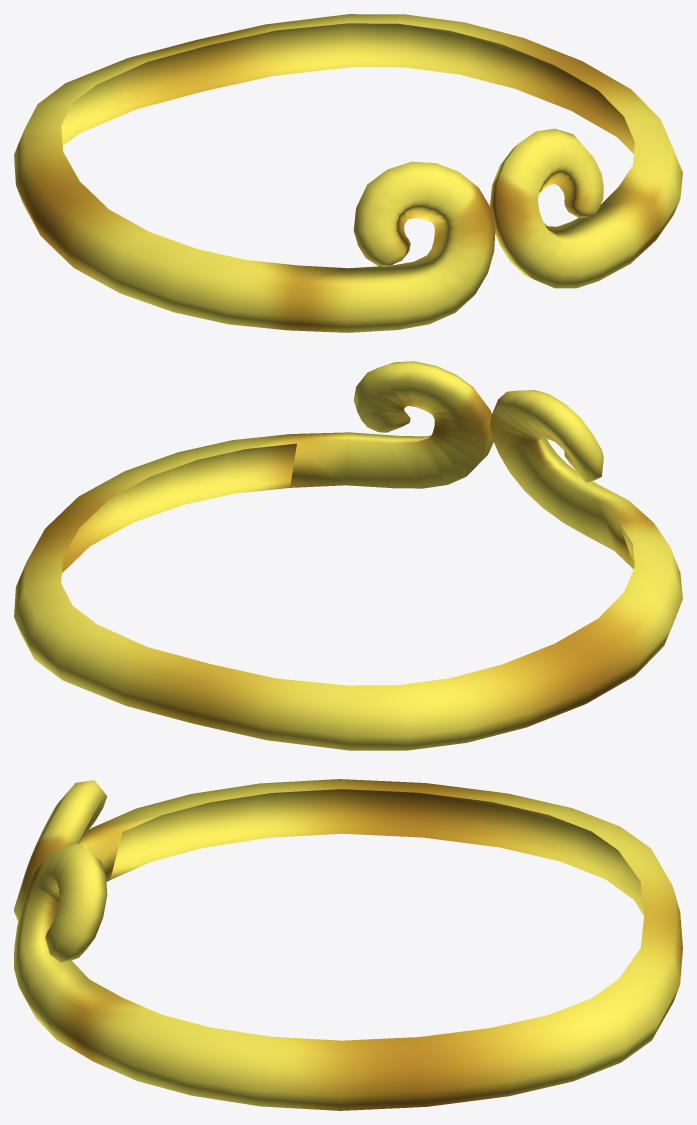
The model's file is SM_Headring.FBX.
The picture shows the model from 3 angles, top to bottom: view 1: azimuth 30°, elevation 25°; view 2: azimuth 150°, elevation 25°; view 3: azimuth 270°, elevation 25°; orthographic projection. The views are drawn at different scales.
Parts seen in each view (by area): view 1: SM_Headring; view 2: SM_Headring; view 3: SM_Headring.
Boxes of the visible parts, x1=… form: SM_Headring: x1=14, y1=14, x2=682, y2=332; SM_Headring: x1=14, y1=361, x2=682, y2=750; SM_Headring: x1=14, y1=779, x2=682, y2=1110.
Bounding box in the file's own units: 120 × 115 × 28.65.
